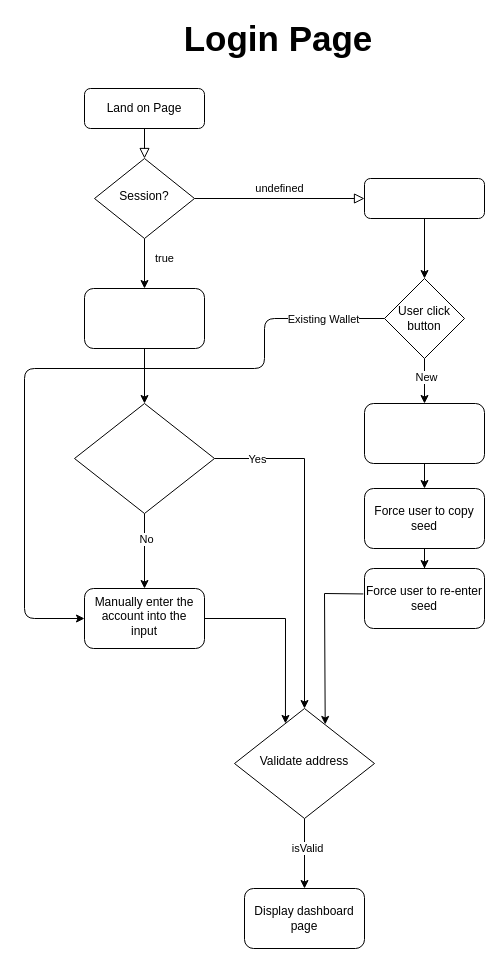
The diagram is 502 pixels wide and 966 high, and some of its shapes have lost their labels. Each missing label, with the centre of its shape:
"Display new user workflow" goes at (424,198).
"Enumerate the dropdown with session accounts" goes at (144,318).
"Present generated seed" goes at (424,433).
"User selects existing" goes at (144,458).
